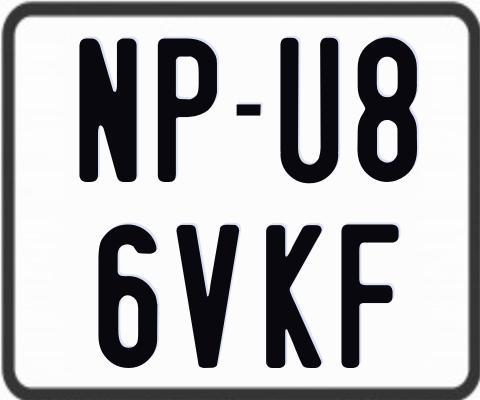6: (95, 223, 154, 373)
8: (357, 36, 417, 186)
F: (341, 223, 403, 368)
K: (263, 222, 325, 369)
N: (77, 38, 138, 183)
P: (158, 38, 219, 188)
U: (277, 36, 336, 185)
V: (175, 225, 243, 374)
